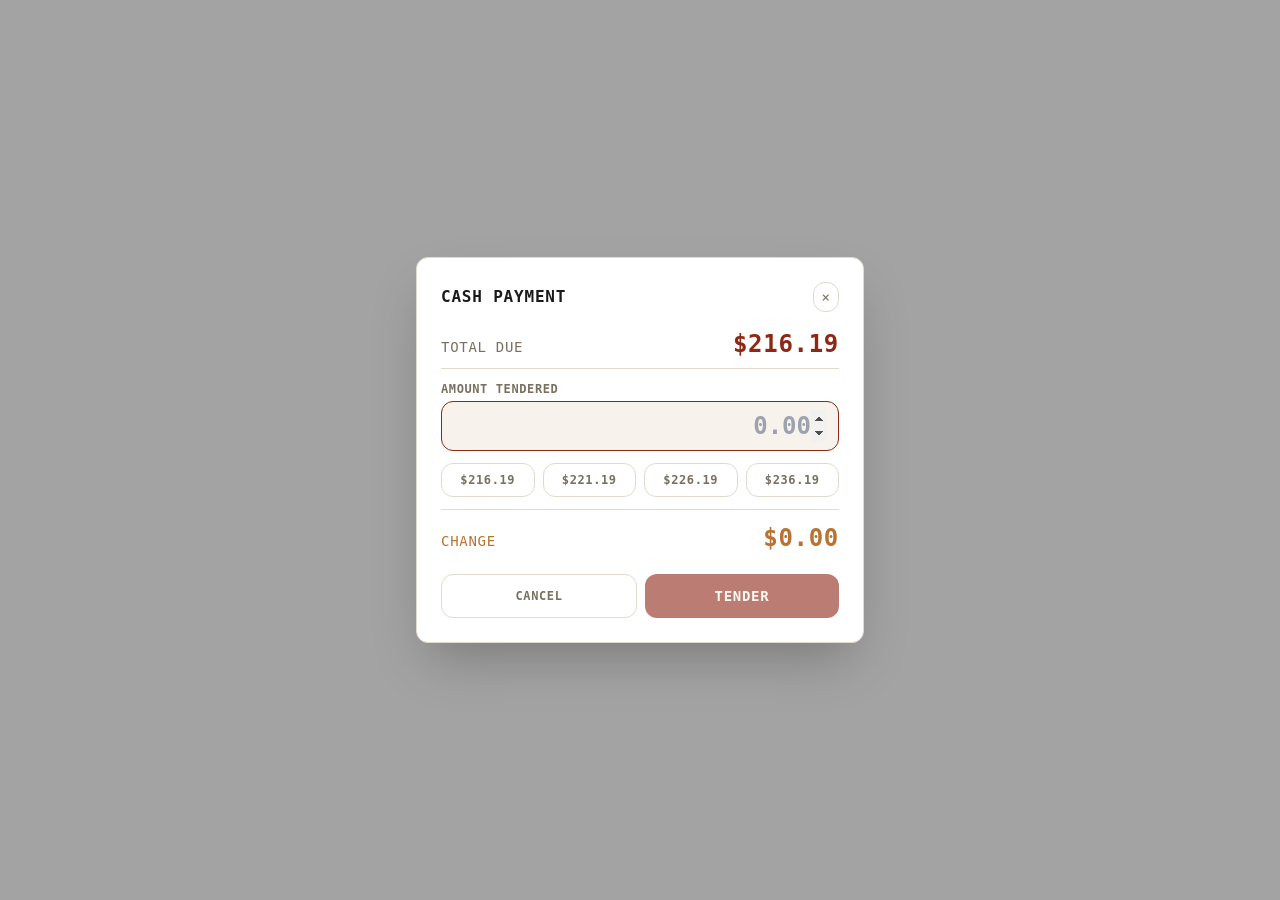
it: <CashTenderModal> › disables Tender until tendered >= total and updates change live
Type "200" into the number field labelled "Amount tendered". click: x=640, y=426
box: left=441, top=401, right=839, bottom=451
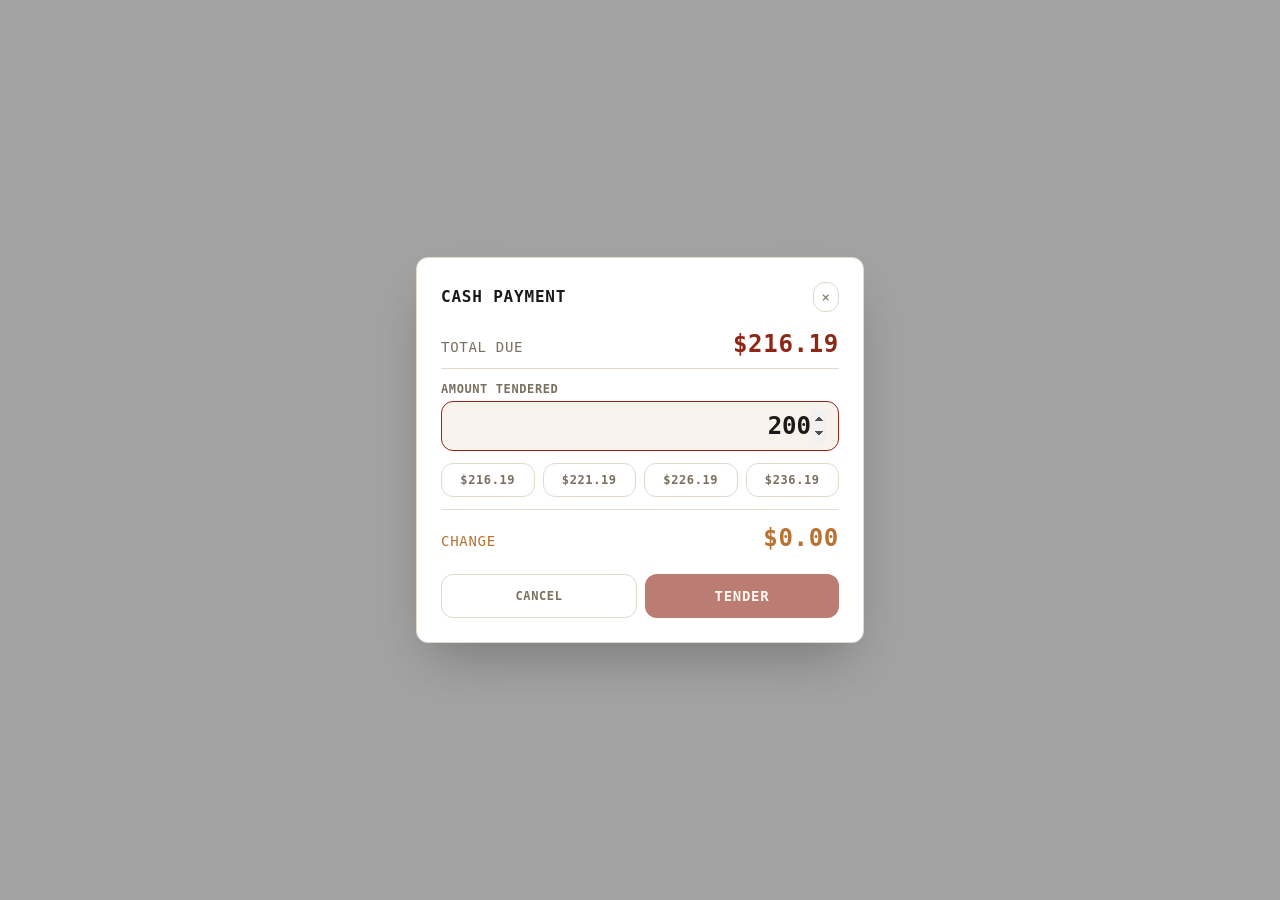
Expected: the button "Tender" is disabled, left=645, top=574, right=839, bottom=618
Expected: the element with test id "change-due" shows "$0.00", left=763, top=524, right=839, bottom=552
Replace the text in the number field labelled "Amount tendered" with "250". click: x=640, y=426
box: left=441, top=401, right=839, bottom=451
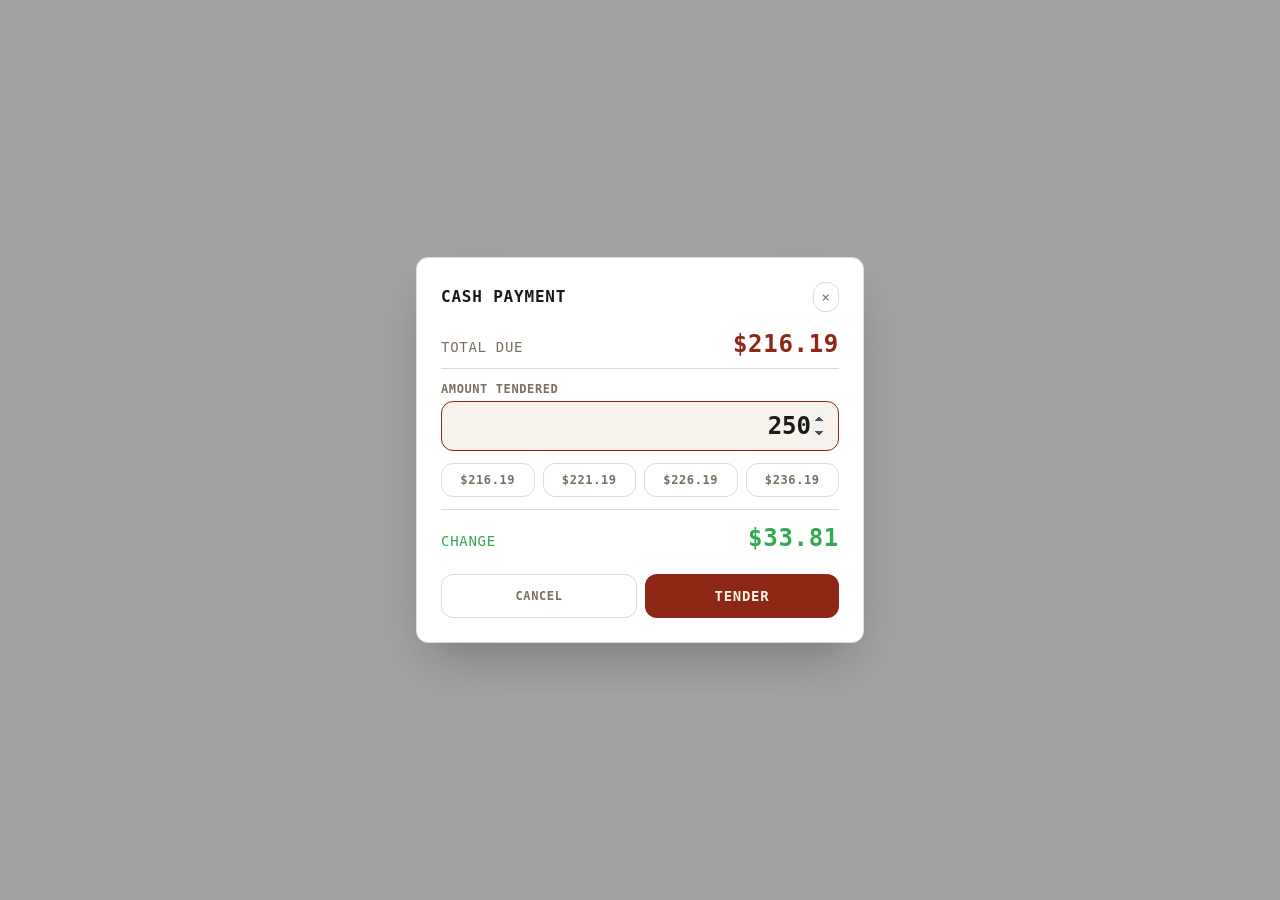
Result: the button "Tender" is enabled at left=645, top=574, right=839, bottom=618
Result: the element with test id "change-due" shows "$33.81" at left=748, top=524, right=839, bottom=552
